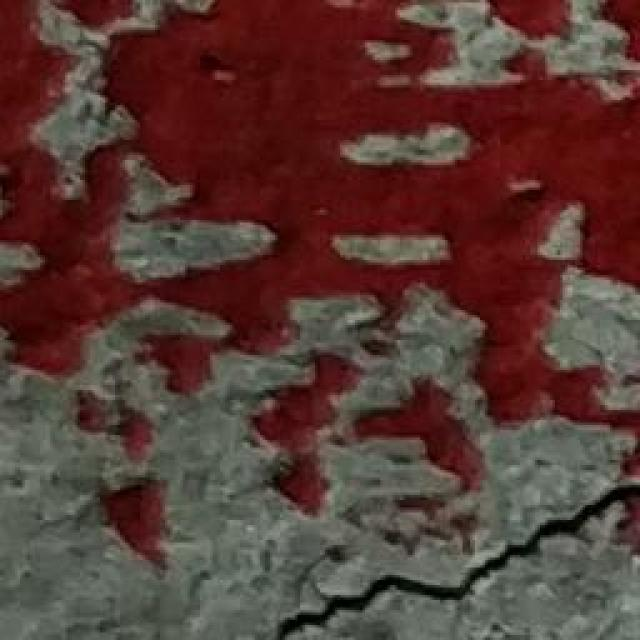Diagonal: (297, 473, 640, 640)
Rippled: (0, 5, 638, 467)
